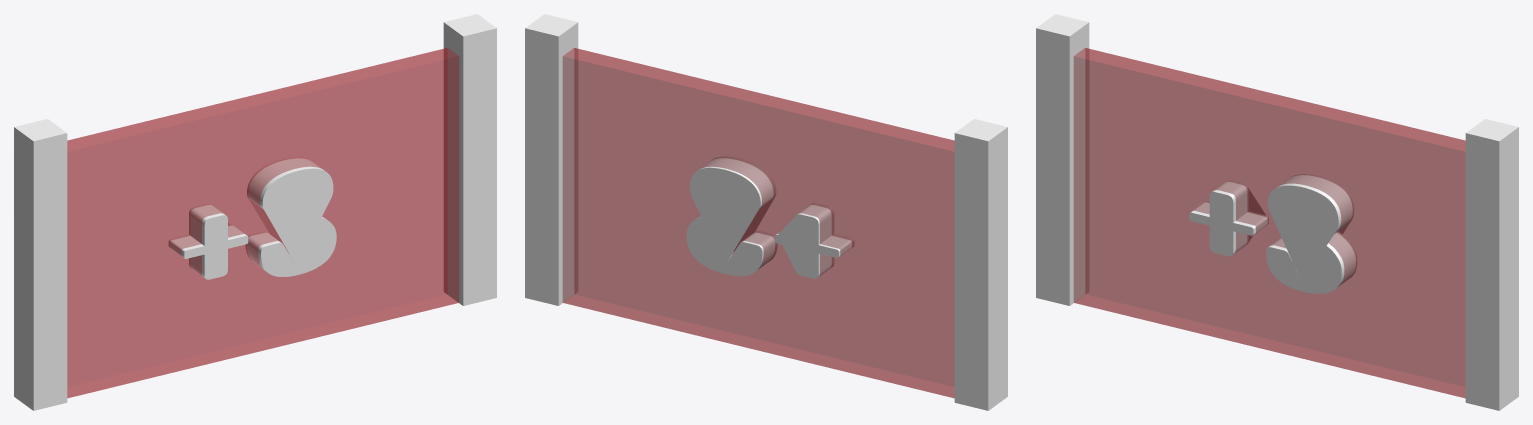
The picture shows the model from 3 angles, left to right: view 1: azimuth 30°, elevation 25°; view 2: azimuth 150°, elevation 25°; view 3: azimuth 330°, elevation 25°; orthographic projection.
Parts seen in each view (by area): view 1: Cube_3, Cube_1, Cube_2, 3_2, __3; view 2: Cube_3, Cube_1, Cube_2, 3_2, __3; view 3: Cube_3, Cube_2, Cube_1, 3_2, __3.
Part boxes in pixels (x1=…): Cube_3: x1=67, y1=48, x2=458, y2=397; Cube_1: x1=14, y1=119, x2=67, y2=410; Cube_2: x1=443, y1=14, x2=496, y2=305; 3_2: x1=245, y1=157, x2=336, y2=276; __3: x1=169, y1=204, x2=248, y2=279; Cube_3: x1=563, y1=48, x2=954, y2=397; Cube_1: x1=954, y1=119, x2=1007, y2=410; Cube_2: x1=525, y1=14, x2=578, y2=305; 3_2: x1=686, y1=156, x2=777, y2=276; __3: x1=775, y1=203, x2=854, y2=278; Cube_3: x1=1074, y1=48, x2=1465, y2=397; Cube_2: x1=1465, y1=119, x2=1518, y2=410; Cube_1: x1=1036, y1=14, x2=1089, y2=305; 3_2: x1=1266, y1=174, x2=1356, y2=293; __3: x1=1189, y1=181, x2=1268, y2=256.
Size of the model in its own units: 393 by 219 by 28.63.
